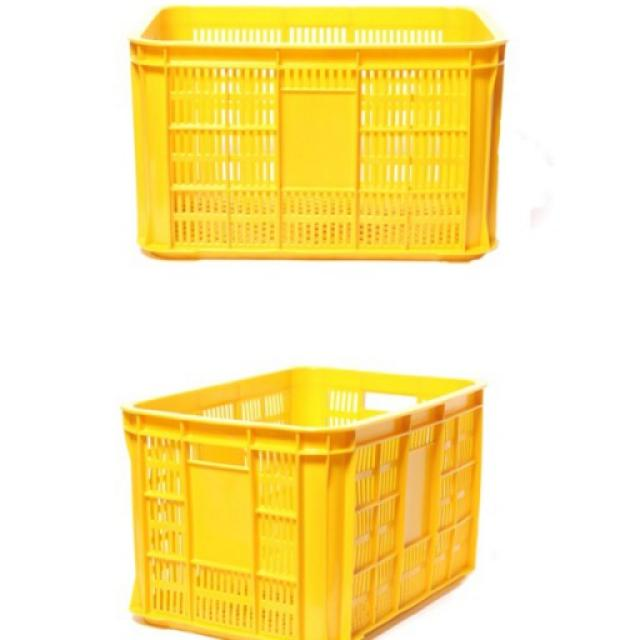basket: (124, 368, 485, 640), (131, 6, 506, 259)
